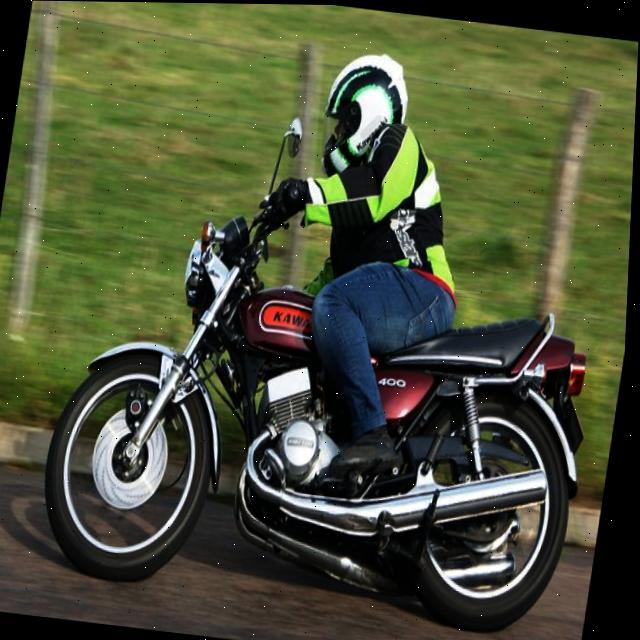motorcycle: (24, 88, 636, 640)
